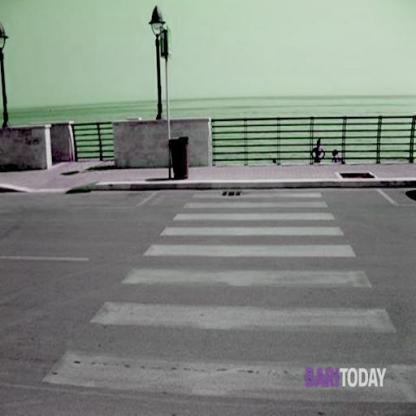crosswalk: (138, 223, 363, 266), (180, 189, 333, 212)
